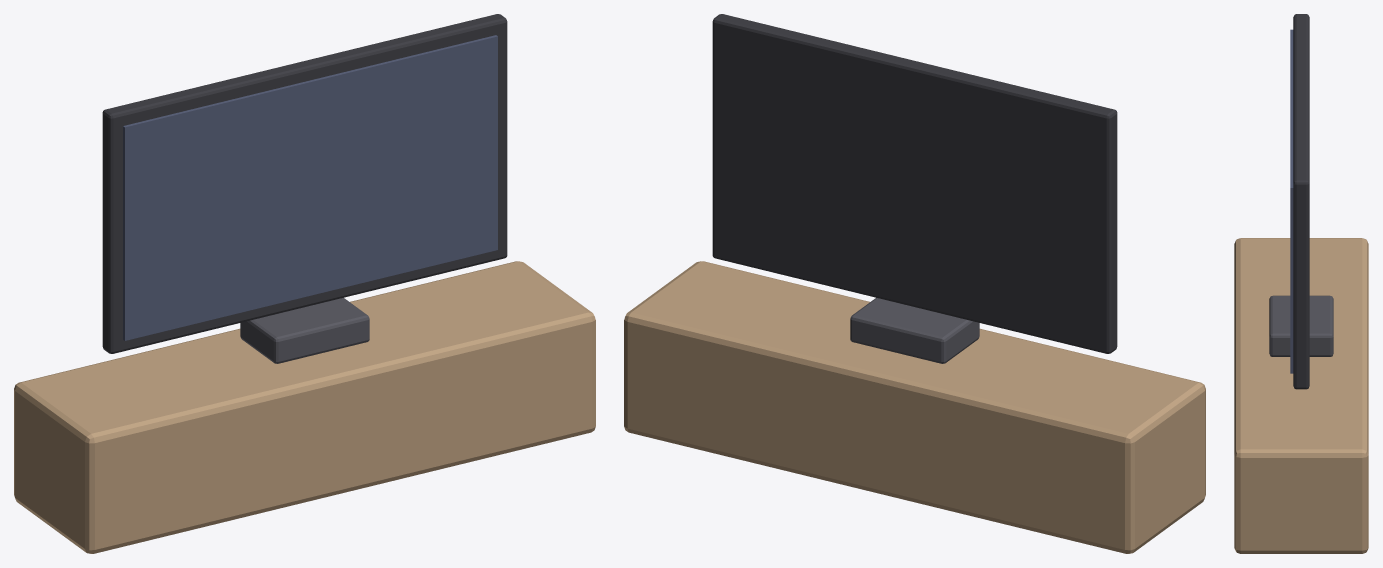
3 views of the same model, side by side, from view 1: azimuth 30°, elevation 25°; view 2: azimuth 150°, elevation 25°; view 3: azimuth 270°, elevation 25° (orthographic). The views are drawn at different scales.
Visible parts, largest first — view 1: tv; view 2: tv; view 3: tv.
Boxes of the visible parts, x1,y1,x2,y2 form: tv: [14, 14, 595, 553]; tv: [624, 14, 1205, 553]; tv: [1234, 14, 1368, 553].
Bounding box in the file's own units: 1.6 × 1.21 × 0.42.
